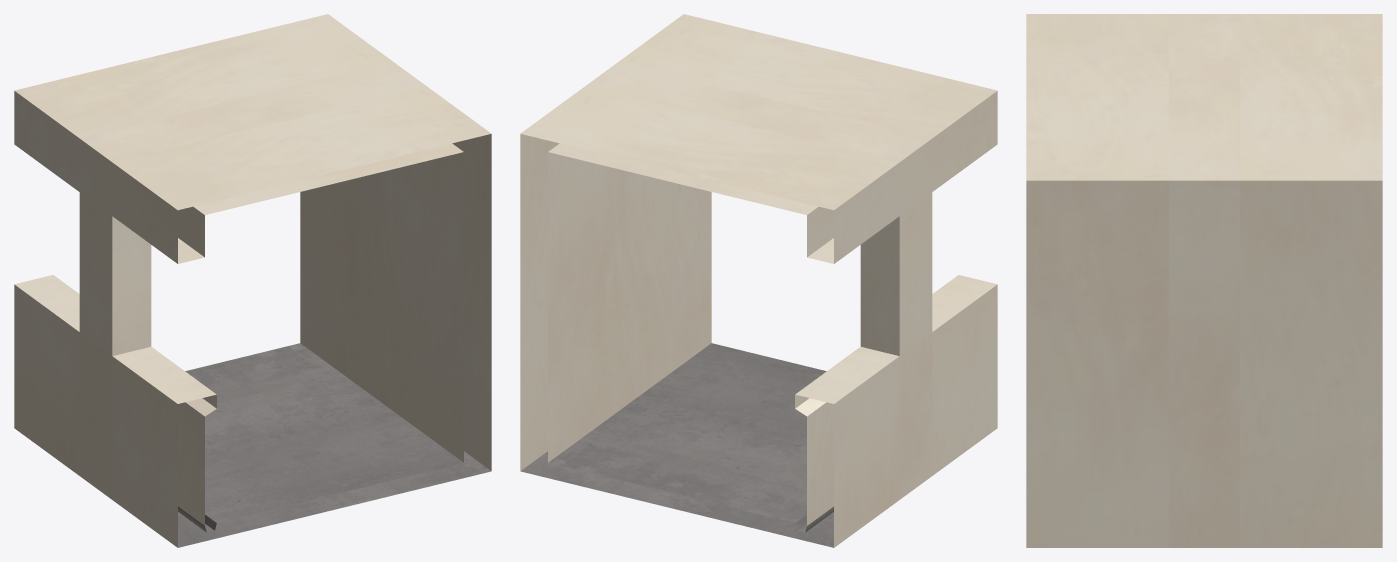
File: LucasTan_PillarPc.fbx
3 views of the same model, side by side, from view 1: azimuth 30°, elevation 25°; view 2: azimuth 150°, elevation 25°; view 3: azimuth 270°, elevation 25° (orthographic). The views are drawn at different scales.
Visible parts, largest first — view 1: plain_wall_pillar; view 2: plain_wall_pillar; view 3: plain_wall_pillar.
Boxes of the visible parts, left/top/right/bottom form: plain_wall_pillar: left=14, top=14, right=491, bottom=547; plain_wall_pillar: left=520, top=14, right=997, bottom=547; plain_wall_pillar: left=1026, top=14, right=1382, bottom=547.
Size of the model in its own units: 2.89 by 2.97 by 2.61.
